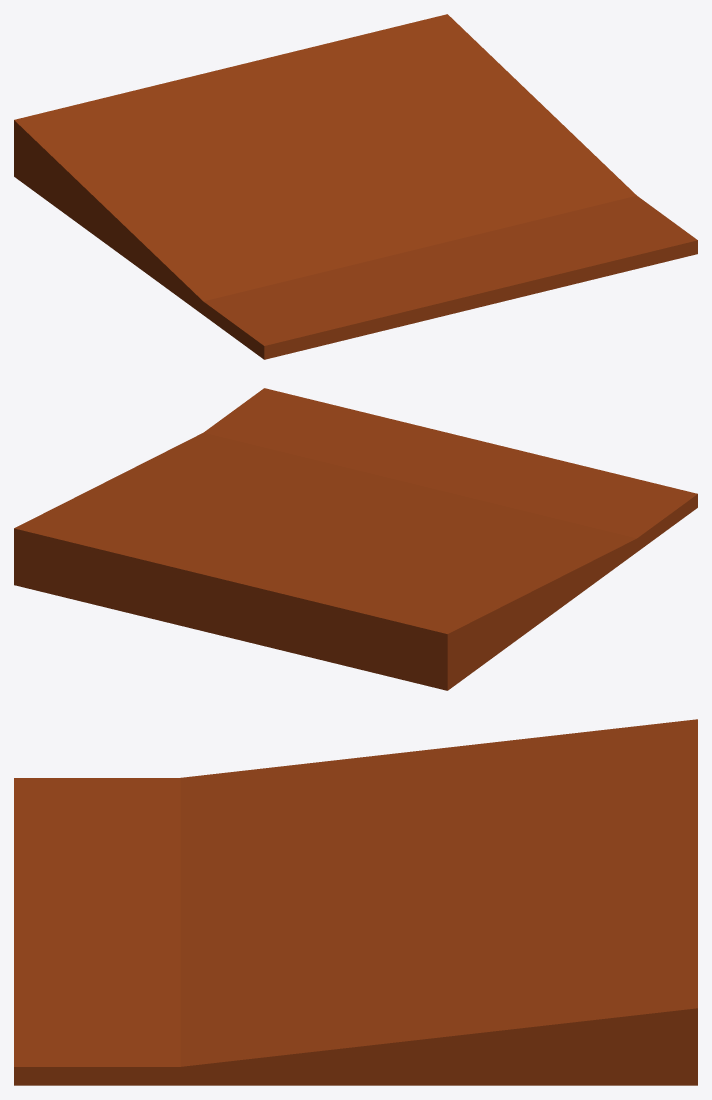
The model's file is Deserty Floor.fbx.
3 views of the same model, one above another, from view 1: azimuth 30°, elevation 25°; view 2: azimuth 150°, elevation 25°; view 3: azimuth 270°, elevation 25° (orthographic). The views are drawn at different scales.
Parts seen in each view (by area): view 1: Flooring Type Ramp Low, Flooring Type Corner Sand, Flooring Type Square Sand, Flooring Type Diagonal Sand; view 2: Flooring Type Ramp Low, Flooring Type Corner Sand, Flooring Type Square Sand, Flooring Type Curve Sand, Flooring Type Diagonal Sand; view 3: Flooring Type Ramp Low, Flooring Type Corner Sand, Flooring Type Square Sand, Flooring Type Curve Sand, Flooring Type Diagonal Sand.
Boxes of the visible parts, x1,y1,x2,y2 form: Flooring Type Ramp Low: (14, 14, 636, 356); Flooring Type Corner Sand: (14, 163, 697, 359); Flooring Type Square Sand: (14, 166, 697, 358); Flooring Type Diagonal Sand: (580, 195, 697, 240); Flooring Type Ramp Low: (14, 432, 691, 690); Flooring Type Corner Sand: (221, 388, 697, 690); Flooring Type Square Sand: (15, 388, 697, 689); Flooring Type Curve Sand: (14, 389, 447, 690); Flooring Type Diagonal Sand: (139, 389, 447, 689); Flooring Type Ramp Low: (18, 719, 697, 1085); Flooring Type Corner Sand: (14, 778, 180, 1066); Flooring Type Square Sand: (14, 778, 697, 1085); Flooring Type Curve Sand: (14, 1055, 697, 1085); Flooring Type Diagonal Sand: (15, 1003, 696, 1085).
Bounding box in the file's own units: 400 × 50 × 400.
